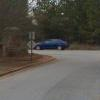Car: (35, 33, 70, 53)
